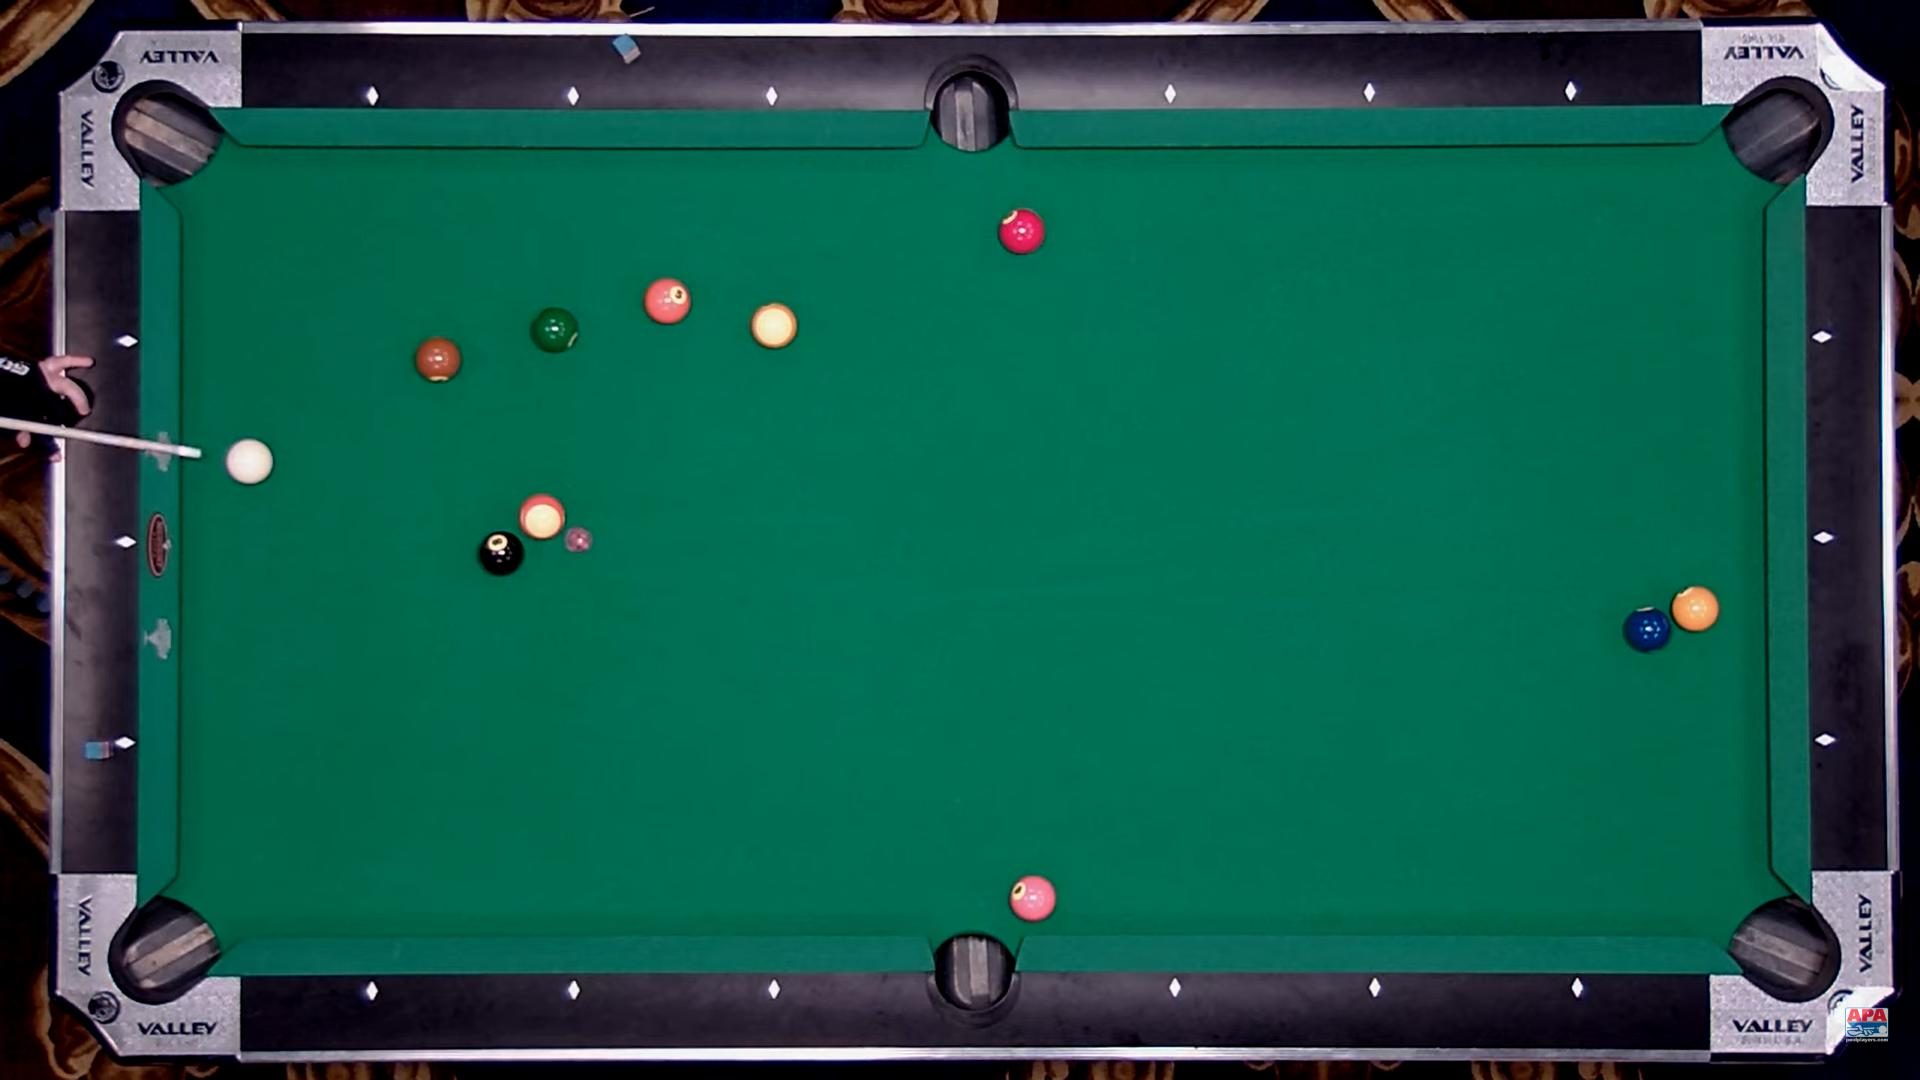Black: (477, 531, 525, 576)
Cue: (227, 439, 274, 485)
Dot: (365, 88, 380, 103), (566, 88, 580, 103), (1163, 87, 1178, 102), (1564, 84, 1578, 99), (1815, 330, 1829, 344), (120, 334, 135, 348), (765, 88, 778, 103), (1362, 86, 1377, 99), (1571, 981, 1584, 996), (1367, 981, 1382, 994), (1168, 981, 1182, 996), (767, 982, 781, 997), (567, 984, 582, 997), (365, 984, 378, 998), (117, 736, 132, 749), (1817, 531, 1830, 545), (1818, 733, 1832, 746), (120, 535, 133, 549)
Solid: (1622, 607, 1672, 651), (1672, 585, 1720, 632), (644, 278, 691, 324), (531, 307, 579, 353), (1010, 876, 1056, 922), (998, 210, 1044, 255), (415, 338, 462, 382)
Striped: (752, 303, 798, 348), (520, 495, 566, 539)
